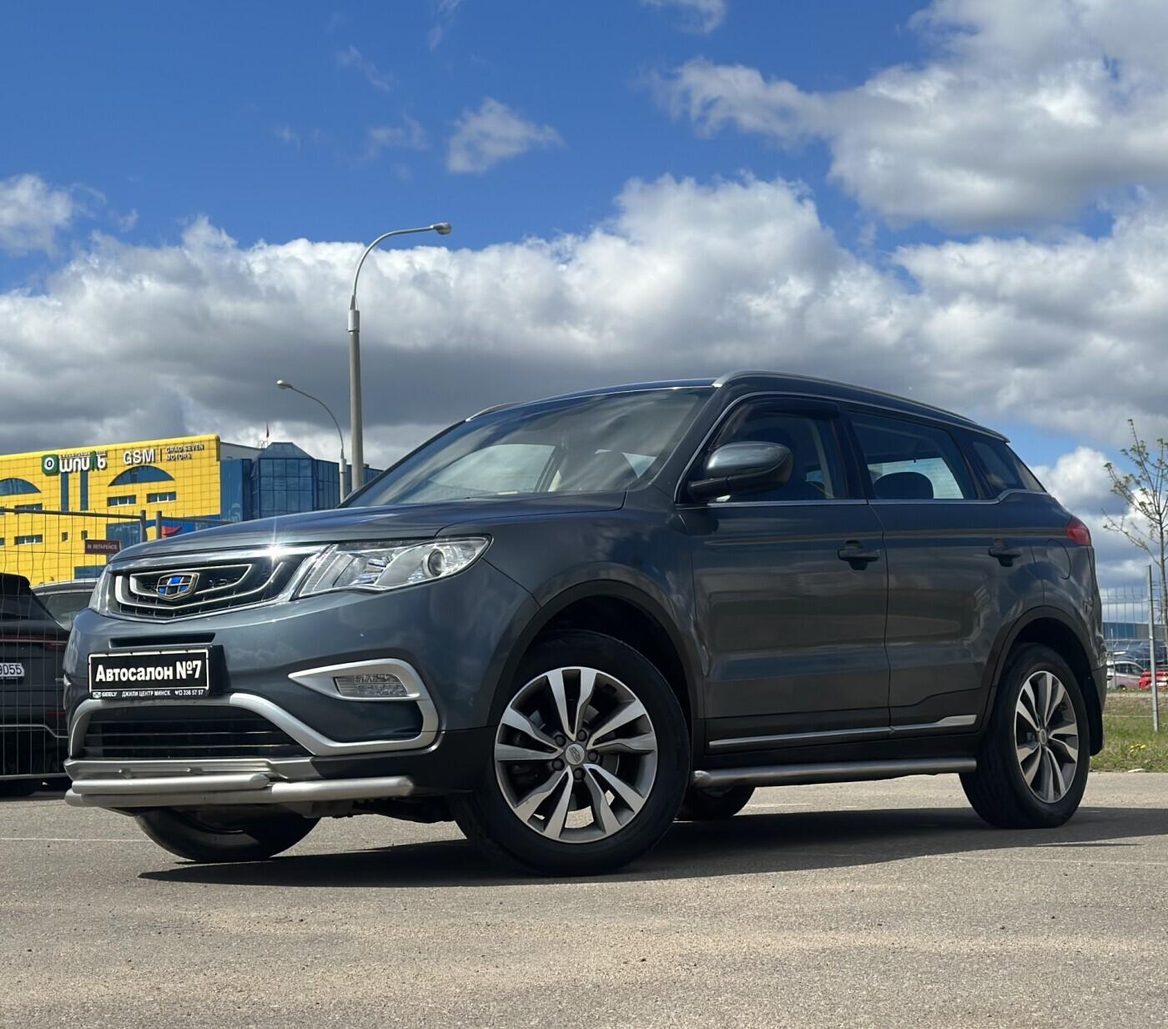Atlas_2016-2023: (53, 359, 1112, 888)
